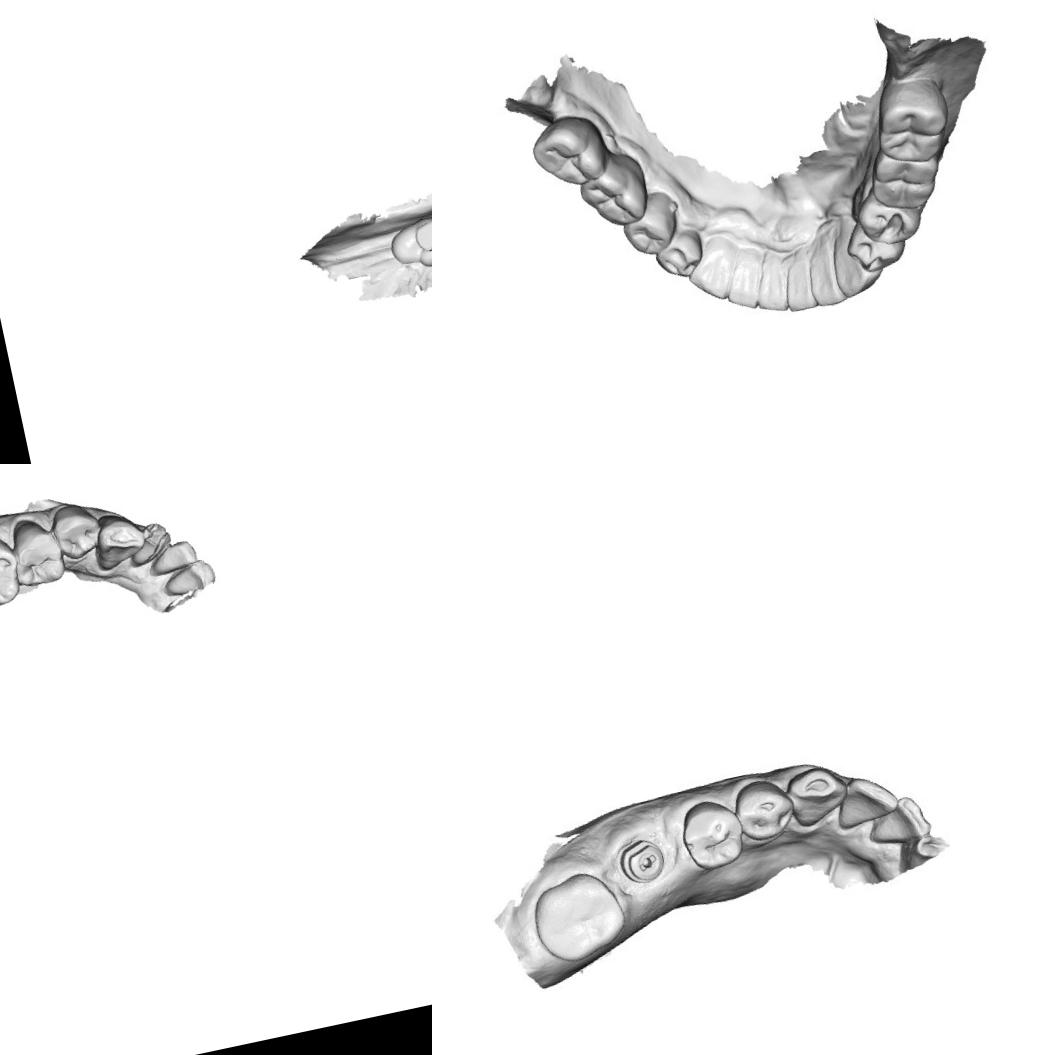canine: (678, 230, 750, 308), (782, 760, 854, 831), (826, 222, 889, 300), (88, 507, 150, 573)
implant_minus: (612, 831, 671, 890)
incisor: (830, 766, 904, 834), (862, 790, 934, 850), (717, 246, 770, 316), (800, 241, 847, 310), (746, 250, 792, 318), (776, 255, 820, 316), (124, 518, 176, 568), (159, 556, 218, 598), (146, 537, 201, 578)
molar: (524, 864, 633, 970), (863, 69, 959, 172), (524, 108, 614, 195), (572, 146, 654, 234), (862, 139, 944, 216), (384, 204, 432, 273), (0, 528, 25, 617)
premolar: (674, 792, 750, 876), (615, 186, 686, 261), (729, 772, 800, 846), (852, 184, 927, 250), (5, 514, 68, 591), (840, 213, 914, 278), (45, 497, 106, 564), (649, 225, 709, 283)
